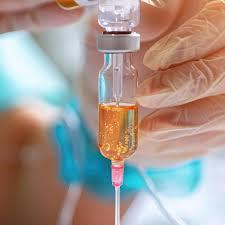Glove: (131, 0, 224, 165), (0, 0, 83, 32)
Iv_Bottle: (99, 53, 137, 161), (56, 0, 123, 17)
Syringe: (97, 0, 139, 224), (56, 0, 98, 8)
